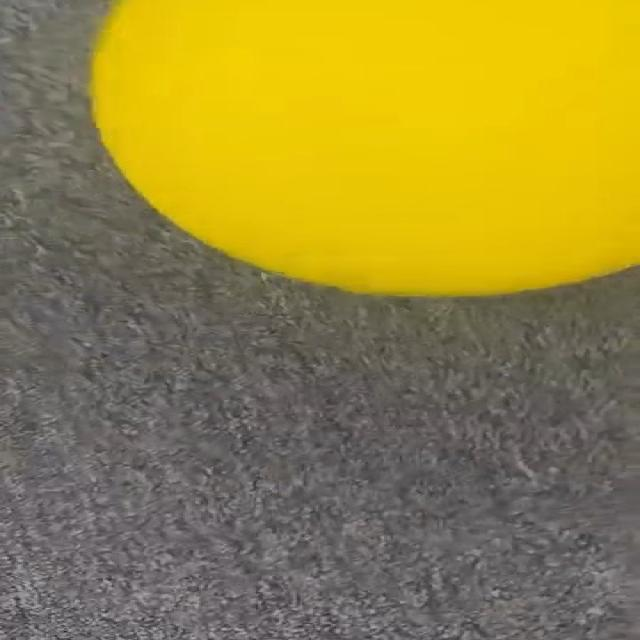Fuels: (94, 0, 636, 294)
